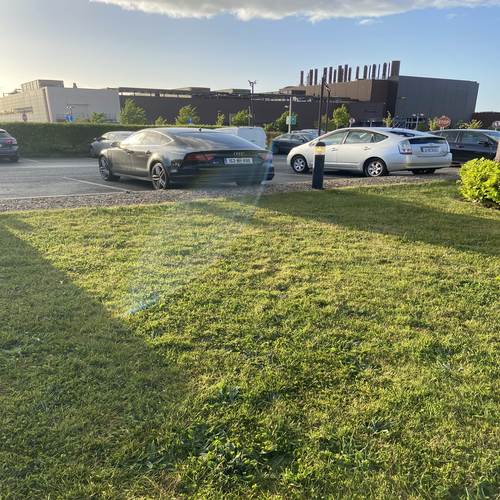Car: (98, 128, 275, 188), (285, 128, 451, 177)
